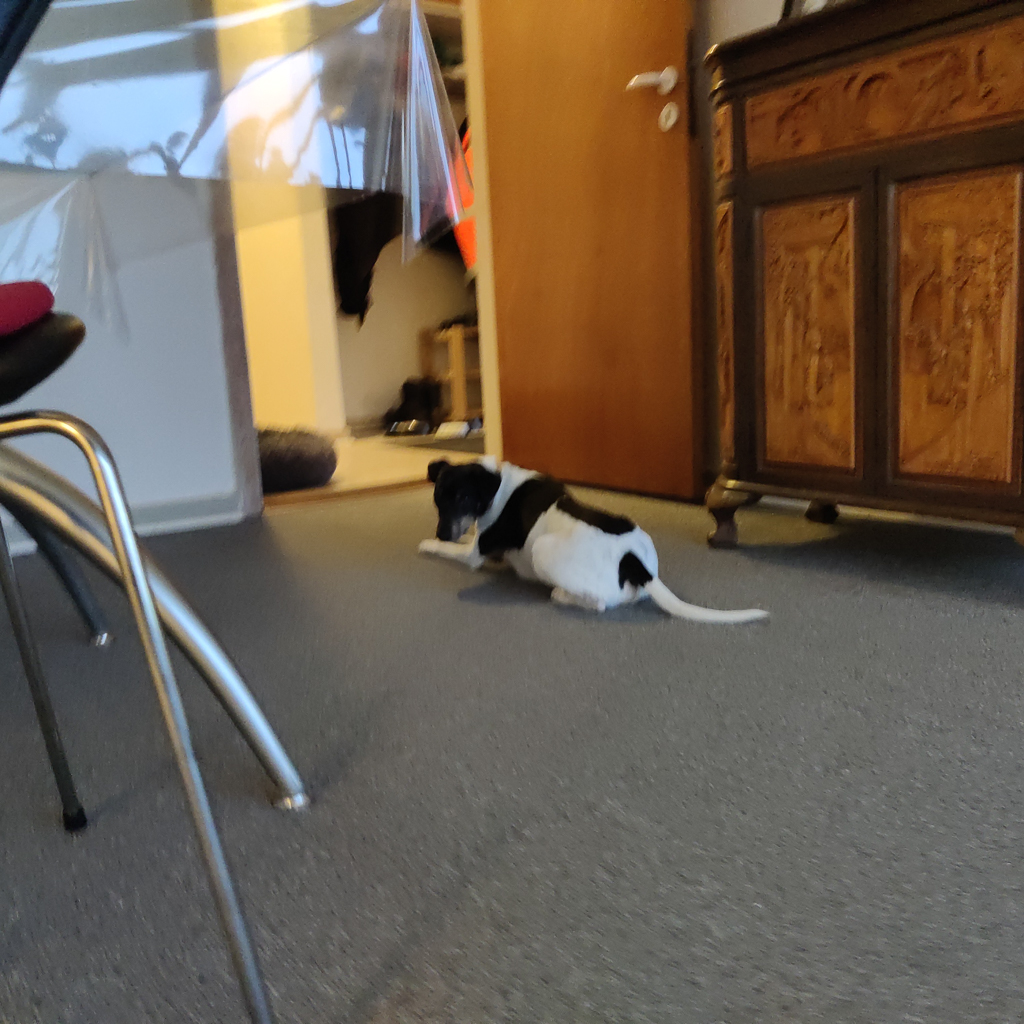Dog: (408, 452, 782, 640)
